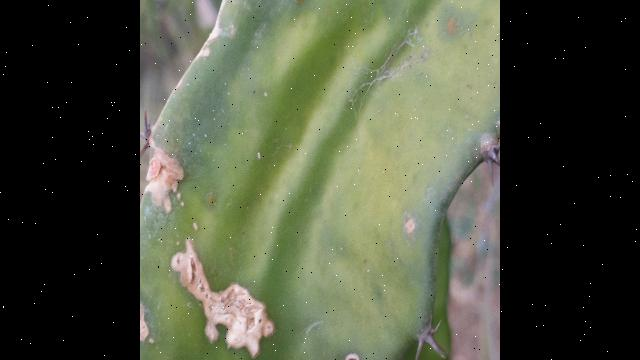stemcanker: (169, 238, 274, 359), (145, 141, 183, 216)
